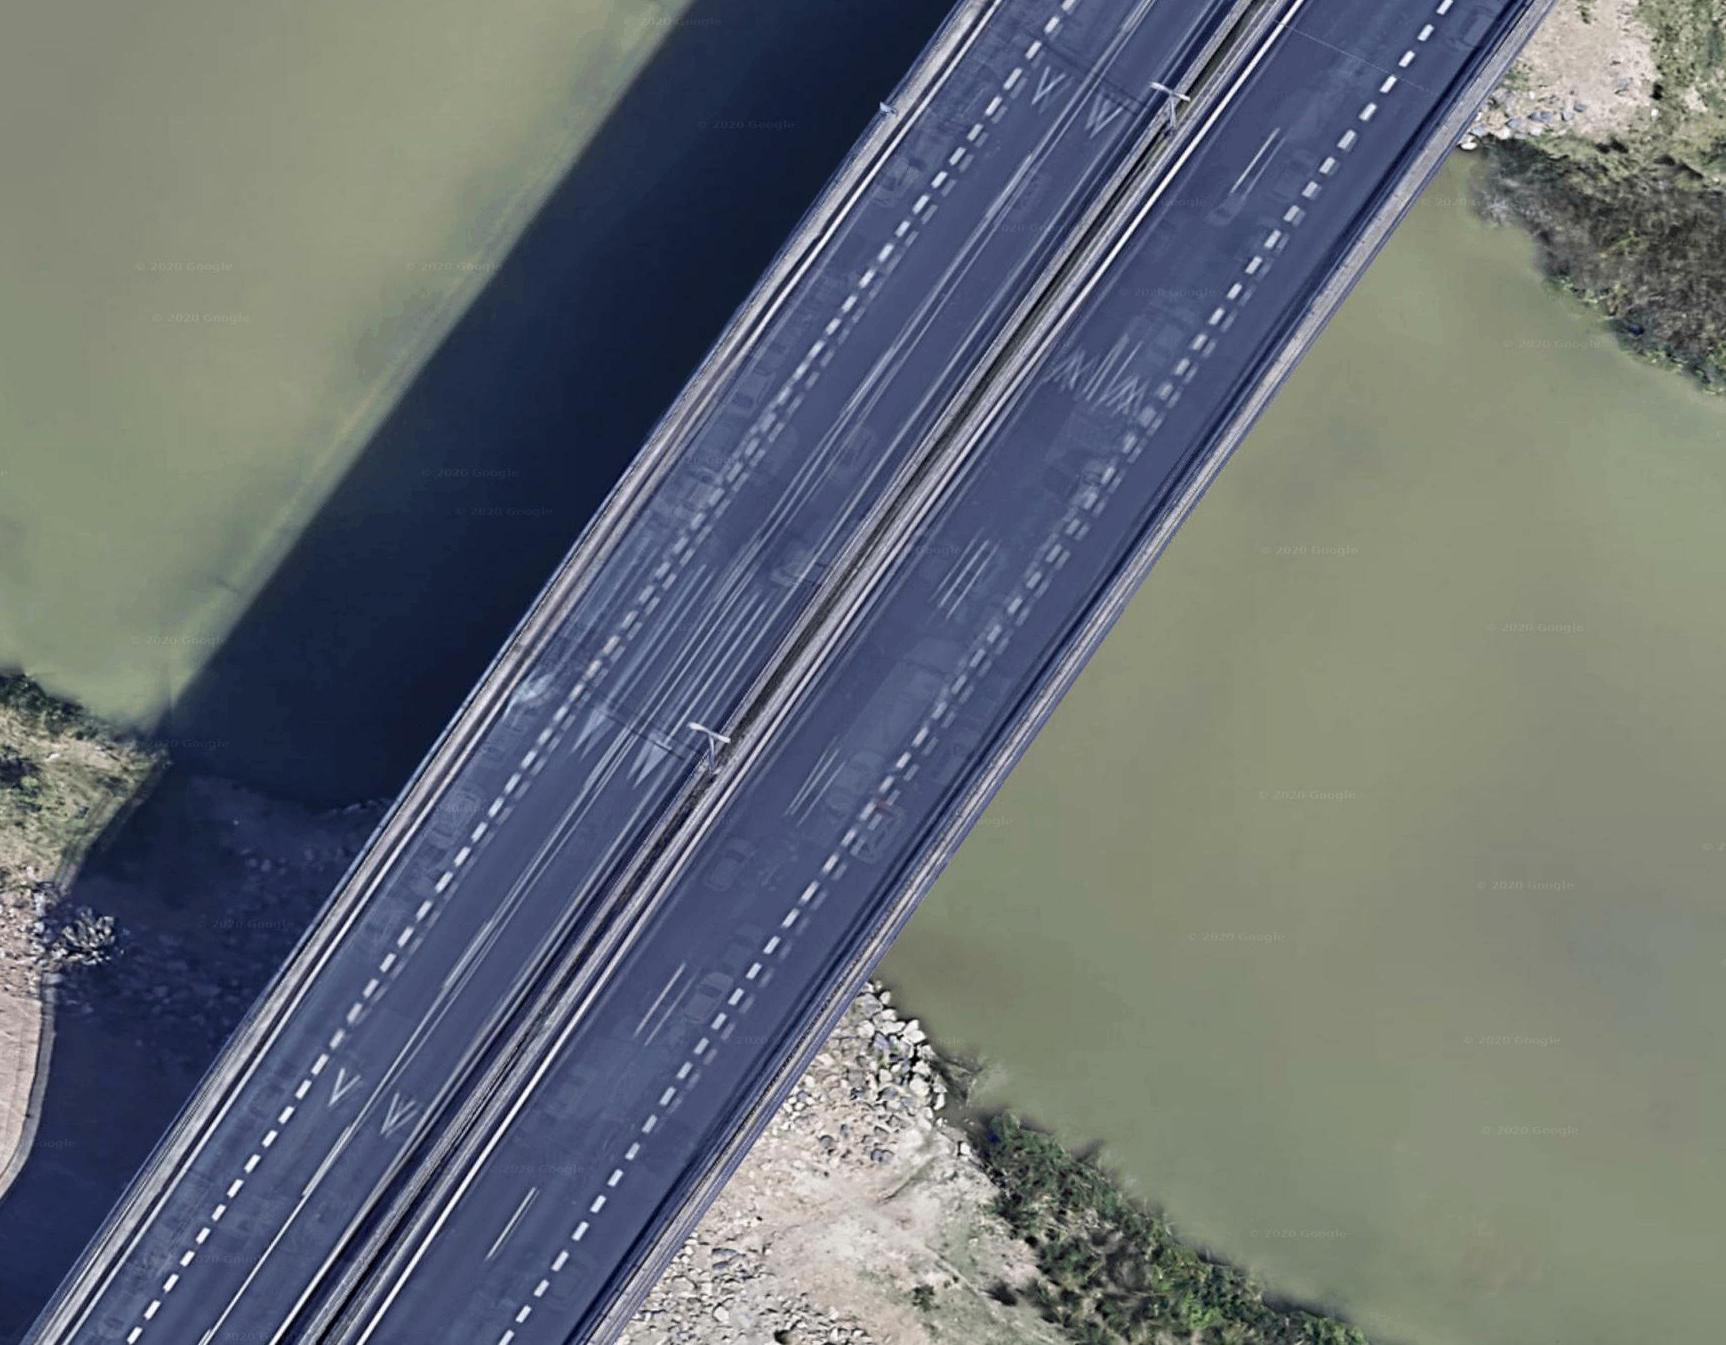bridge: (298, 8, 1635, 1292)
